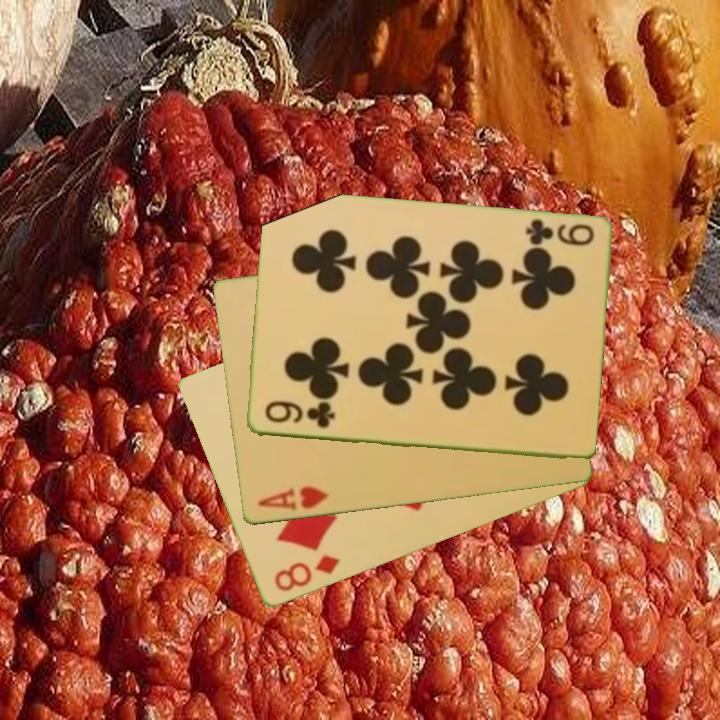8d: (270, 552, 343, 595)
9c: (260, 398, 338, 432), (522, 215, 597, 249)
Ah: (253, 483, 331, 514)
